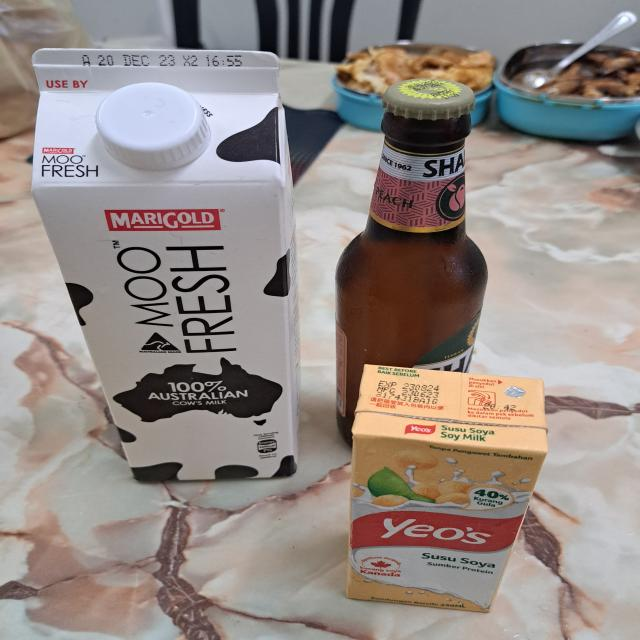drink carton: (30, 46, 297, 481), (352, 360, 548, 611)
glass bottle: (336, 80, 486, 448)
plastic bottle cap: (100, 81, 208, 171)
